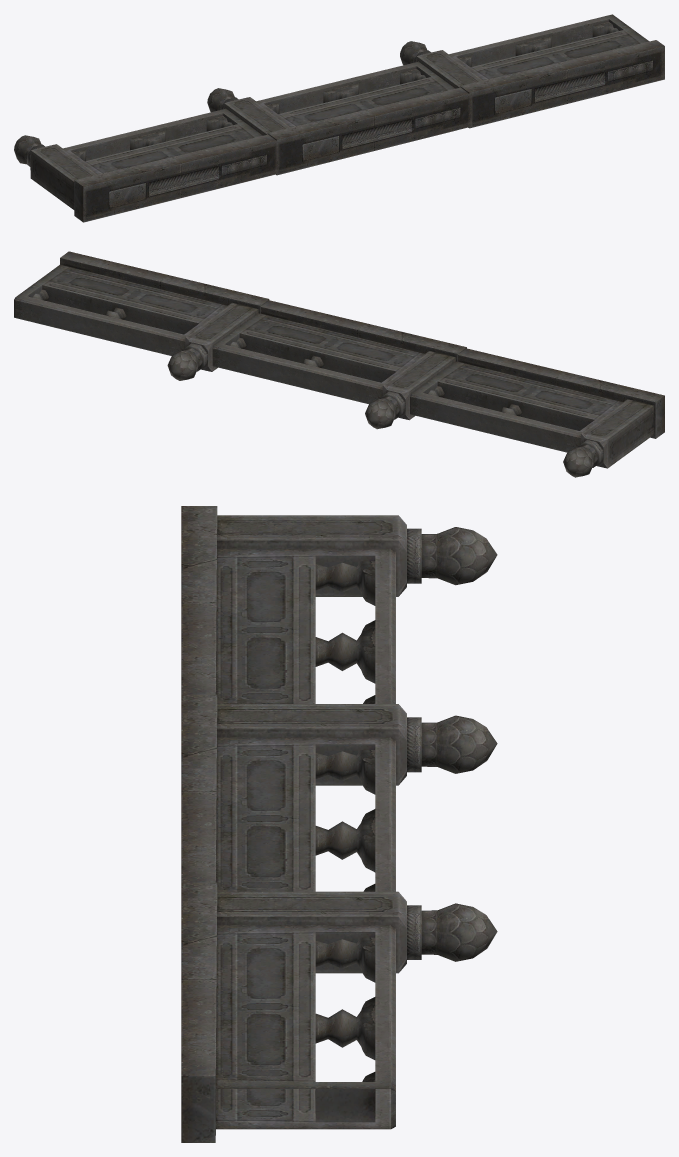
File: langan002.FBX
The picture shows the model from 3 angles, top to bottom: view 1: azimuth 30°, elevation 25°; view 2: azimuth 150°, elevation 25°; view 3: azimuth 270°, elevation 25°; orthographic projection. The views are drawn at different scales.
Visible parts, largest first — view 1: Mesh_0281; view 2: Mesh_0281; view 3: Mesh_0281.
Boxes of the visible parts, x1=… form: Mesh_0281: x1=14, y1=14, x2=664, y2=222; Mesh_0281: x1=14, y1=251, x2=664, y2=477; Mesh_0281: x1=181, y1=506, x2=497, y2=1142.
Size of the model in its own units: 757 by 44.56 by 178.
1 material, 1 textured.
